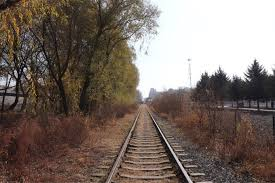field: (13, 98, 271, 183)
tree: (1, 1, 120, 113), (194, 60, 275, 107)
